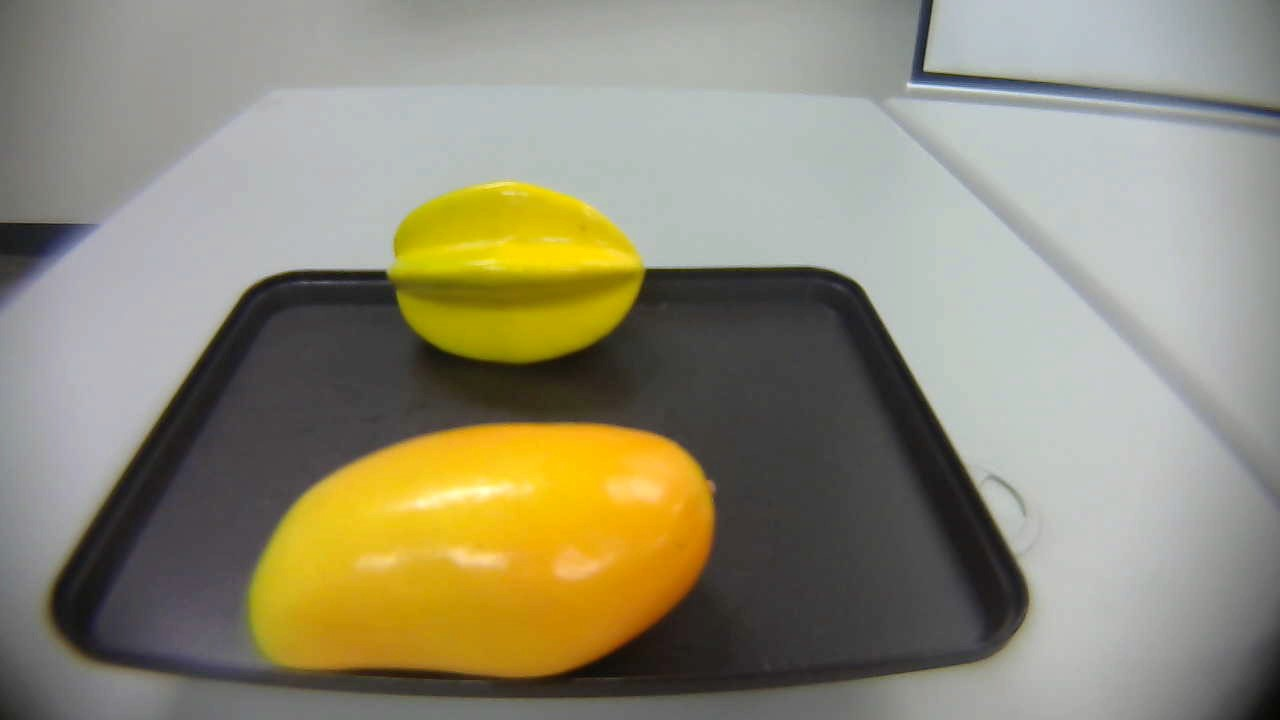star fruit: (355, 176, 673, 385)
yellow mango: (231, 413, 741, 695)
